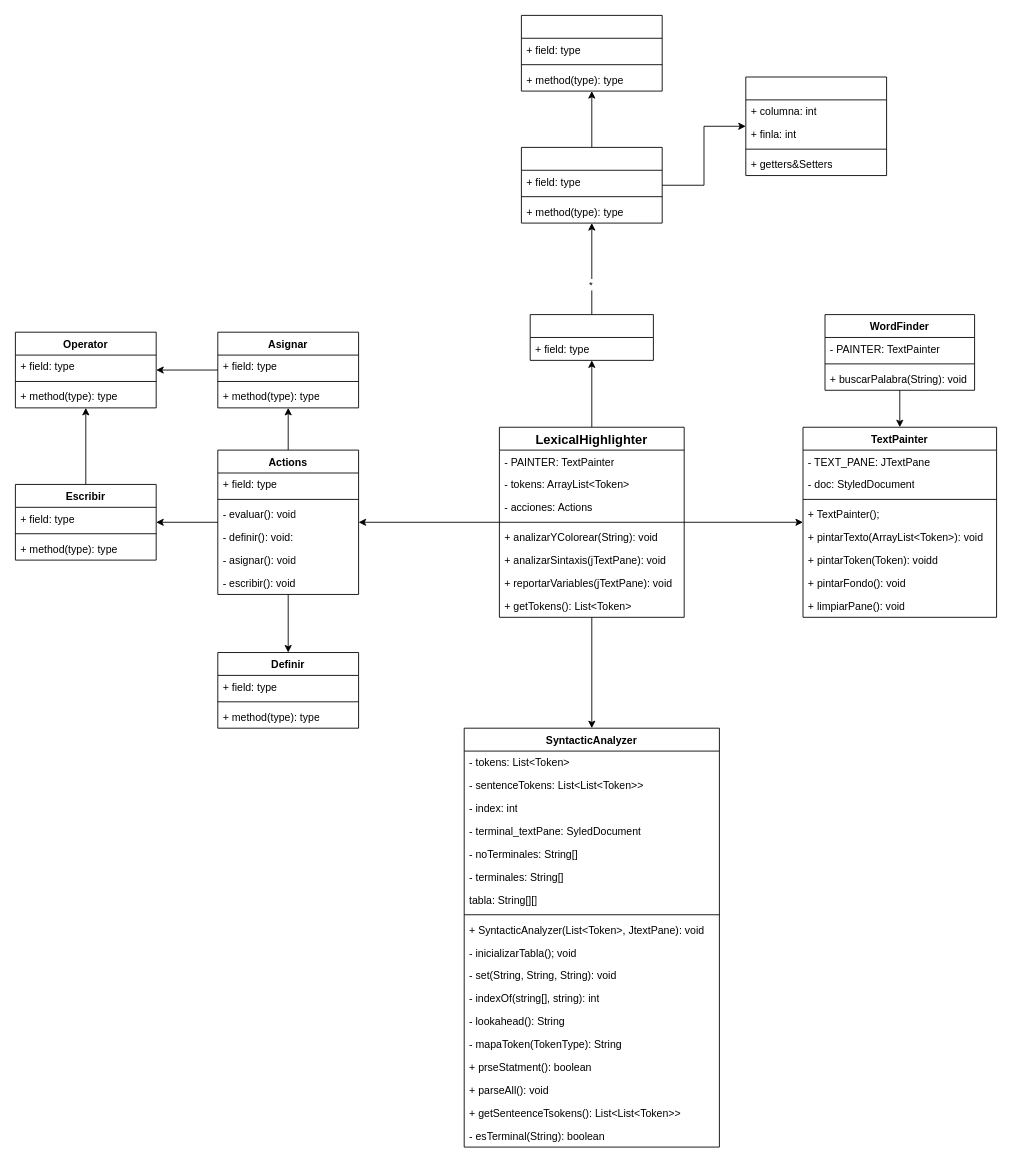
The diagram is 1012 pixels wide and 1165 high, and some of its shapes have lost their labels. Each missing label, with the box of its shape:
<<Enum>> TokenType: (521, 15, 662, 91)
Lexer: (529, 314, 653, 360)
Position: (745, 76, 887, 176)
Token: (521, 147, 662, 223)
